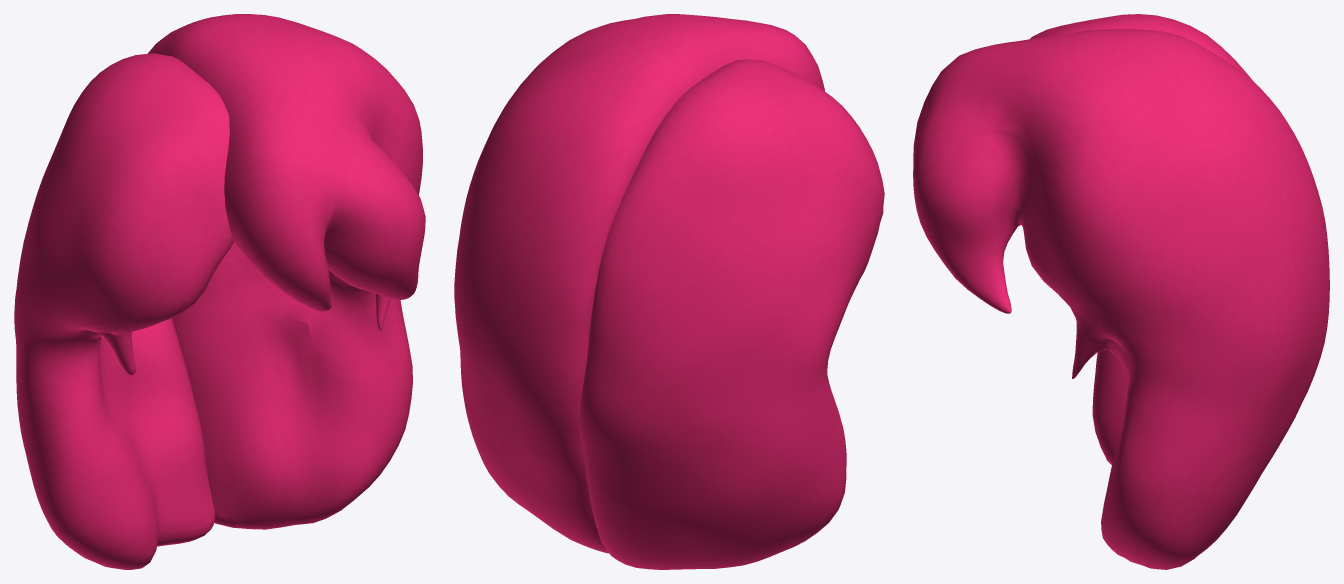
File: md_hair.glb
3 renders of one model, left to right at view 1: azimuth 30°, elevation 25°; view 2: azimuth 150°, elevation 25°; view 3: azimuth 270°, elevation 25°, orthographic. The views are drawn at different scales.
Parts seen in each view (by area): view 1: HAIR_HAIR_0.001; view 2: HAIR_HAIR_0.001; view 3: HAIR_HAIR_0.001.
Boxes of the visible parts, x1=… form: HAIR_HAIR_0.001: x1=14, y1=14, x2=425, y2=569; HAIR_HAIR_0.001: x1=454, y1=14, x2=884, y2=569; HAIR_HAIR_0.001: x1=913, y1=14, x2=1329, y2=569.
Bounding box in the file's own units: 2.01 × 2.65 × 2.
Materials: 1 (1 with a texture image).
